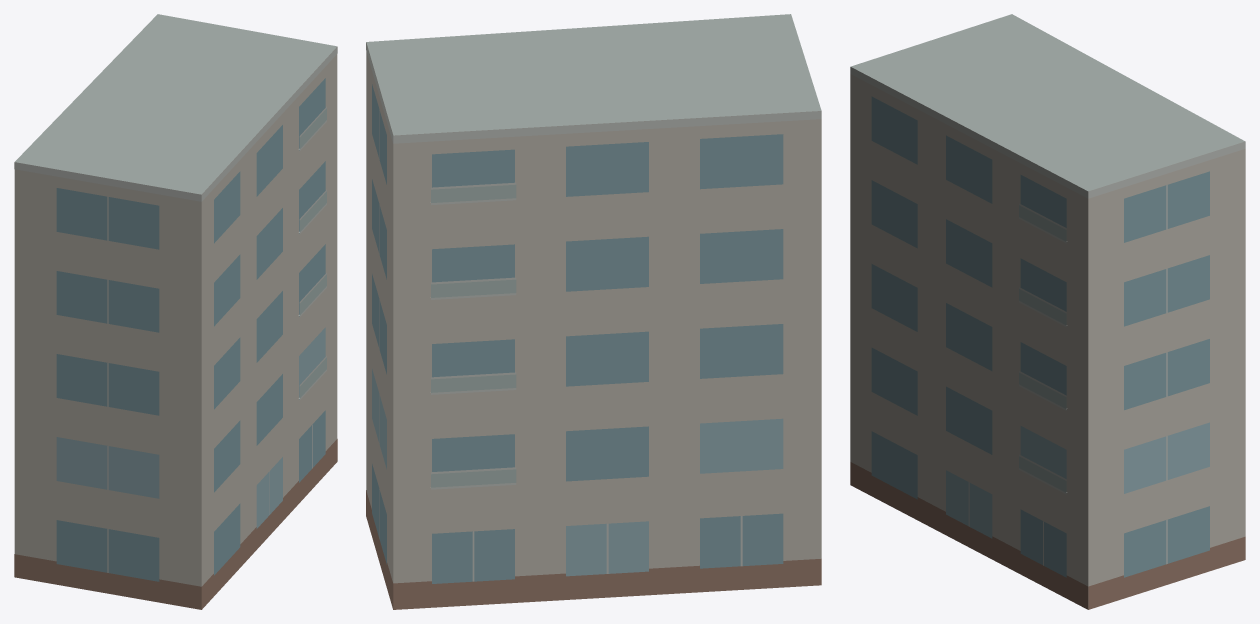
The model's file is survey-upis-32531016.glb.
3 renders of one model, left to right at view 1: azimuth 30°, elevation 25°; view 2: azimuth 150°, elevation 25°; view 3: azimuth 270°, elevation 25°, orthographic. The views are drawn at different scales.
Parts seen in each view (by area): view 1: survey-upis-32531016.tmp; view 2: survey-upis-32531016.tmp; view 3: survey-upis-32531016.tmp.
Boxes of the visible parts, left/top/right/bottom form: survey-upis-32531016.tmp: left=14, top=14, right=337, bottom=609; survey-upis-32531016.tmp: left=366, top=14, right=821, bottom=609; survey-upis-32531016.tmp: left=850, top=14, right=1245, bottom=609.
Size of the model in its own units: 12.74 by 14 by 11.99.
